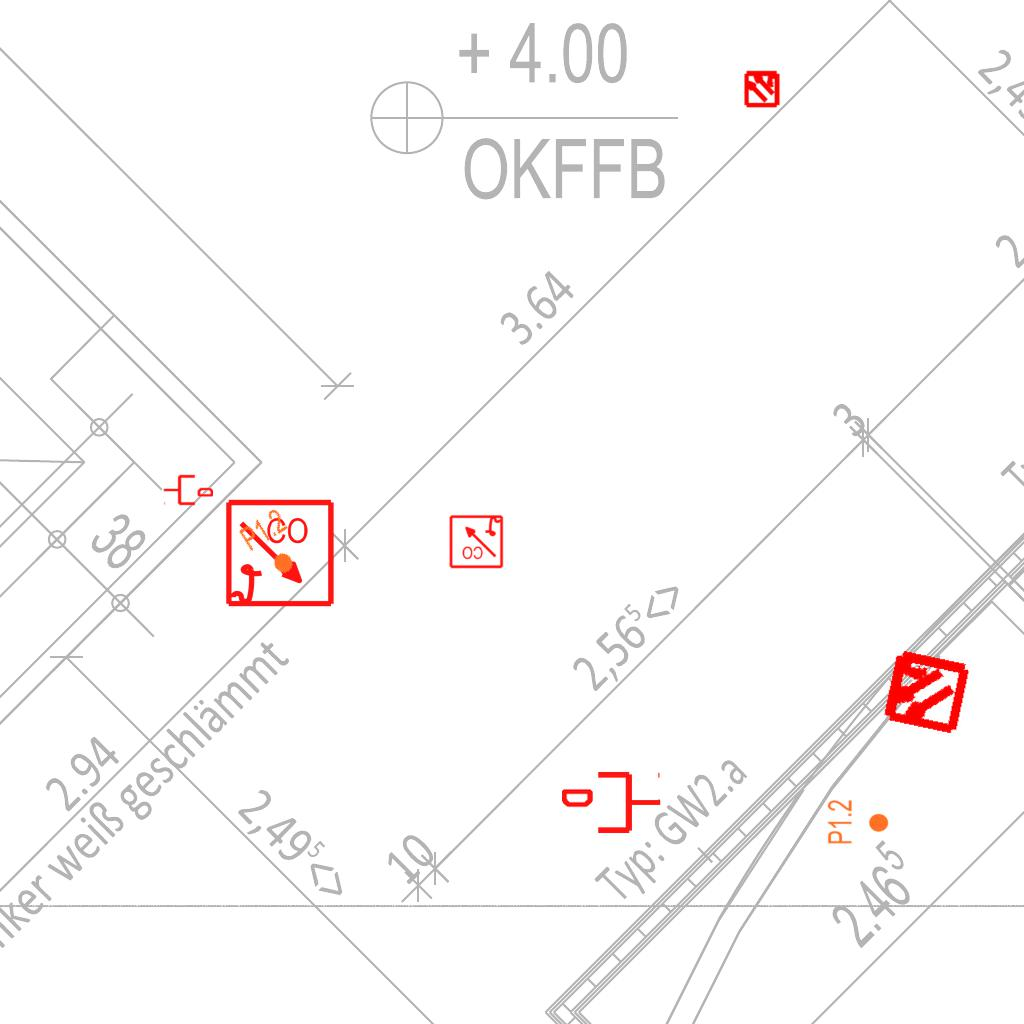Datenanschluss_einfach: (562, 768, 662, 837), (163, 473, 213, 507)
Downlight_LED_Einbauleuchten_Flur: (236, 505, 310, 585), (826, 799, 890, 845)
OT_Multisensormelder_(Kombination_RMO_WMD): (857, 624, 992, 759), (734, 60, 790, 116)
ROA_Rauchmelder_optisch_mit_Signalgeber_(Sockelsirene): (224, 498, 337, 611), (448, 513, 504, 569)
